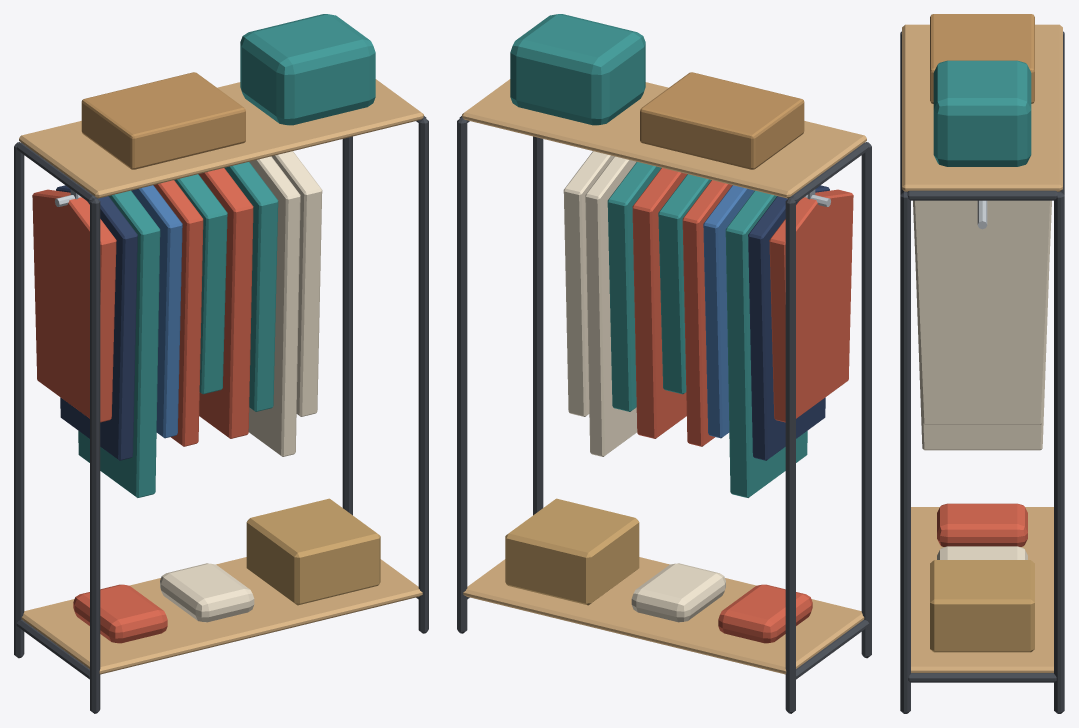
File: clothes_rack.glb
The picture shows the model from 3 angles, left to right: view 1: azimuth 30°, elevation 25°; view 2: azimuth 150°, elevation 25°; view 3: azimuth 270°, elevation 25°; orthographic projection.
Visible parts, largest first — view 1: clothes_rack_Body; view 2: clothes_rack_Body; view 3: clothes_rack_Body.
Boxes of the visible parts, bbox=[...] form: clothes_rack_Body: bbox=[14, 14, 428, 713]; clothes_rack_Body: bbox=[457, 14, 871, 713]; clothes_rack_Body: bbox=[900, 14, 1064, 713].
Size of the model in its own units: 1.2 by 2 by 0.5.
